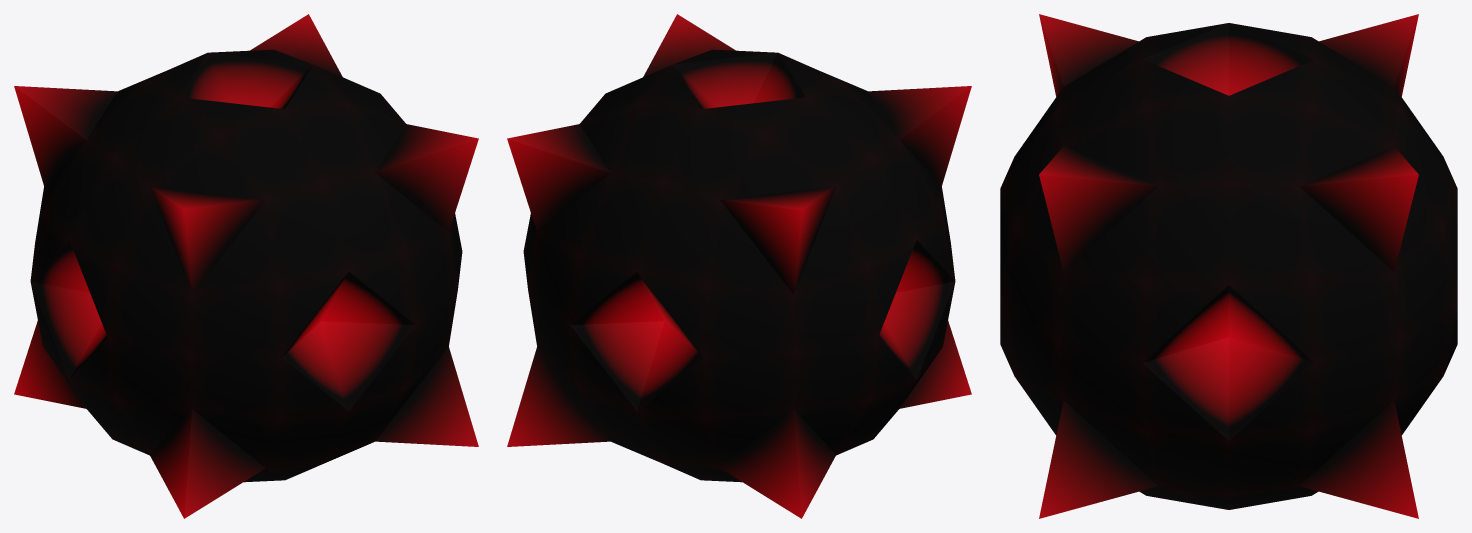
File: bomb.fbx
3 renders of one model, left to right at view 1: azimuth 30°, elevation 25°; view 2: azimuth 150°, elevation 25°; view 3: azimuth 270°, elevation 25°, orthographic. The views are drawn at different scales.
Visible parts, largest first — view 1: Bomb_bake; view 2: Bomb_bake; view 3: Bomb_bake.
Part boxes in pixels (x1,y1,x2,y2): Bomb_bake: (14,14,478,518); Bomb_bake: (507,14,971,518); Bomb_bake: (1000,14,1457,518).
Size of the model in its own units: 5.43 by 5.43 by 5.43.
